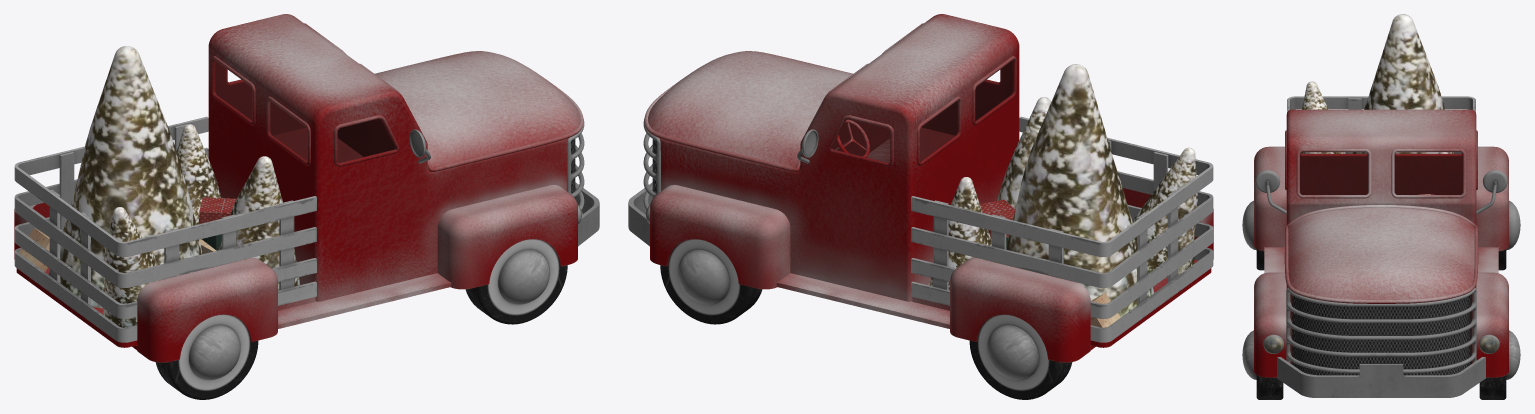
Rendered from truck export.fbx.
3 views of the same model, side by side, from view 1: azimuth 30°, elevation 25°; view 2: azimuth 150°, elevation 25°; view 3: azimuth 270°, elevation 25° (orthographic). The views are drawn at different scales.
Visible parts, largest first — view 1: Vert, Plane.001, Vert.001, tree, Vert.003, Cylinder, bottom.001, tree.001, Vert.006, tree.003, tree.002, Vert.004 (+4 smaller); view 2: Vert, Plane.001, Vert.001, tree, Vert.003, Cylinder, bottom.001, tree.003, Vert.006, tree.001, tree.002, Vert.004 (+4 smaller); view 3: Vert, Vert.003, Vert.001, Plane, tree, Vert.002, Cylinder, Vert.006, Vert.004, Plane.001, Circle, bottom.001 (+2 smaller).
Part boxes in pixels (x1,y1,x2,y2): Vert: [208, 14, 575, 301]; Plane.001: [14, 116, 316, 342]; Vert.001: [14, 184, 577, 362]; tree: [48, 46, 202, 308]; Vert.003: [375, 51, 579, 167]; Cylinder: [155, 239, 567, 399]; bottom.001: [132, 273, 451, 350]; tree.001: [212, 156, 299, 290]; Vert.006: [211, 23, 400, 166]; tree.003: [103, 207, 161, 327]; tree.002: [176, 124, 221, 224]; Vert.004: [427, 77, 583, 171]; Vert: [652, 14, 1019, 301]; Plane.001: [911, 116, 1213, 342]; Vert.001: [650, 184, 1213, 362]; tree: [1006, 64, 1154, 317]; Vert.003: [648, 51, 852, 167]; Cylinder: [660, 239, 1072, 399]; bottom.001: [776, 273, 1095, 350]; tree.003: [1133, 147, 1197, 277]; Vert.006: [827, 23, 1016, 166]; tree.001: [996, 97, 1051, 208]; tree.002: [929, 177, 991, 290]; Vert.004: [644, 77, 800, 171]; Vert: [1286, 109, 1476, 375]; Vert.003: [1288, 207, 1474, 299]; Vert.001: [1254, 146, 1508, 377]; Plane: [1277, 357, 1485, 397]; tree: [1350, 14, 1453, 153]; Vert.002: [1286, 288, 1476, 373]; Cylinder: [1242, 200, 1520, 399]; Vert.006: [1285, 130, 1477, 198]; Vert.004: [1284, 205, 1478, 303]; Plane.001: [1287, 96, 1475, 153]; Circle: [1255, 170, 1507, 214]; bottom.001: [1264, 247, 1498, 273].
Size of the model in its own units: 500 by 281 by 284.
Materials: 1 (1 with a texture image).
